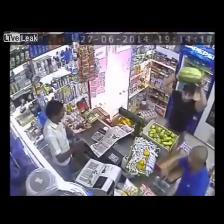person: (43, 100, 86, 181), (165, 76, 207, 145), (161, 146, 209, 195)
